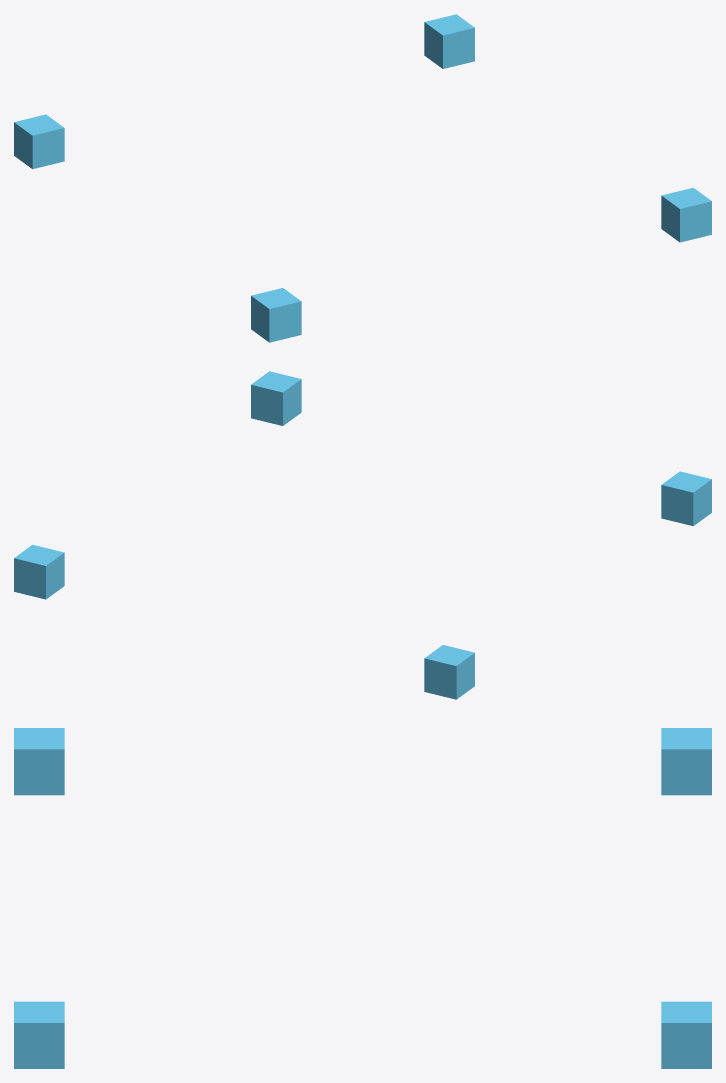
File: sp_glass_panel_editor.dae
3 views of the same model, one above another, from view 1: azimuth 30°, elevation 25°; view 2: azimuth 150°, elevation 25°; view 3: azimuth 270°, elevation 25° (orthographic). The views are drawn at different scales.
Parts seen in each view (by area): view 1: glass_panel_editor; view 2: glass_panel_editor; view 3: glass_panel_editor.
Boxes of the visible parts, x1,y1,x2,y2 form: glass_panel_editor: (14, 14, 711, 342); glass_panel_editor: (14, 371, 711, 699); glass_panel_editor: (14, 728, 711, 1068).
Size of the model in its own units: 0.1348 by 0.1348 by 0.00977.
